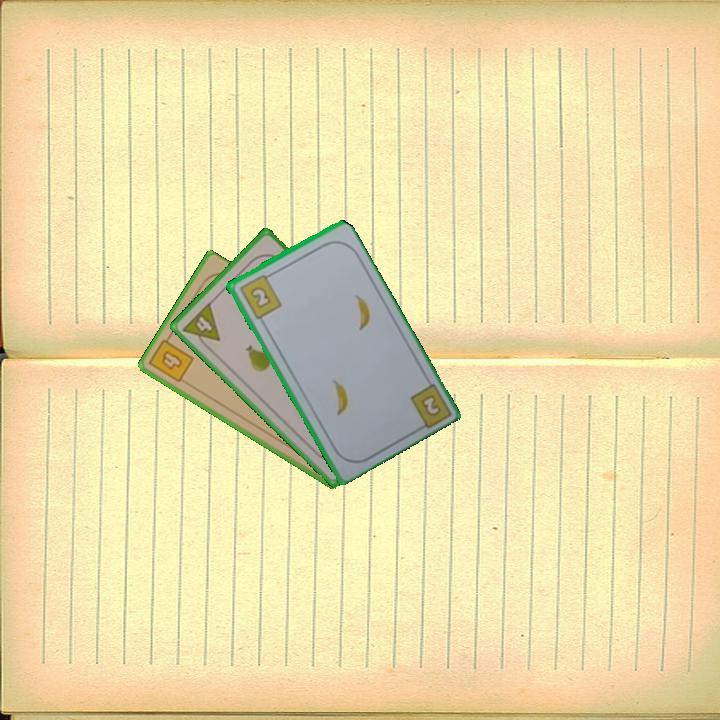2b: (236, 270, 284, 322), (417, 391, 444, 419)
4b: (146, 331, 197, 386)
4p: (178, 299, 223, 353)
